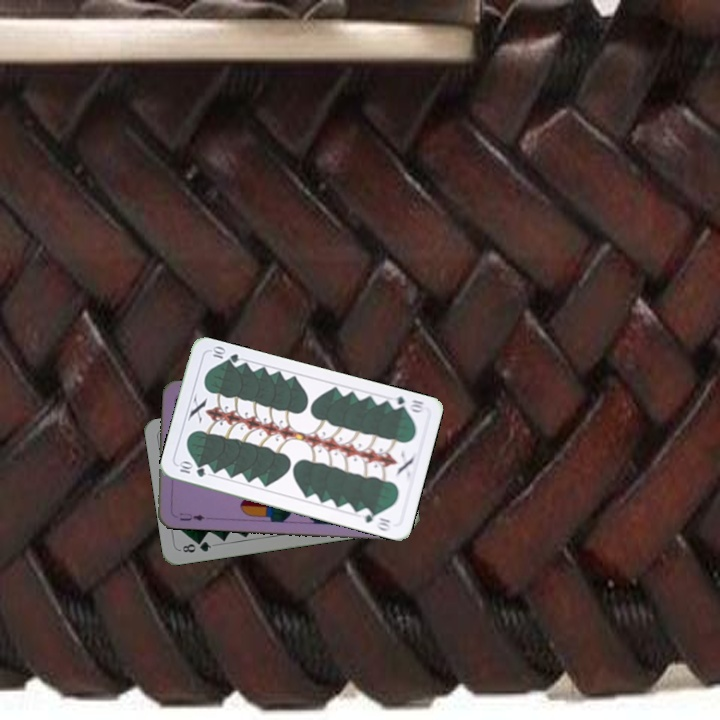EU: (175, 509, 207, 523)
G10: (386, 392, 427, 415), (174, 458, 208, 480)
G8: (176, 537, 214, 555)
